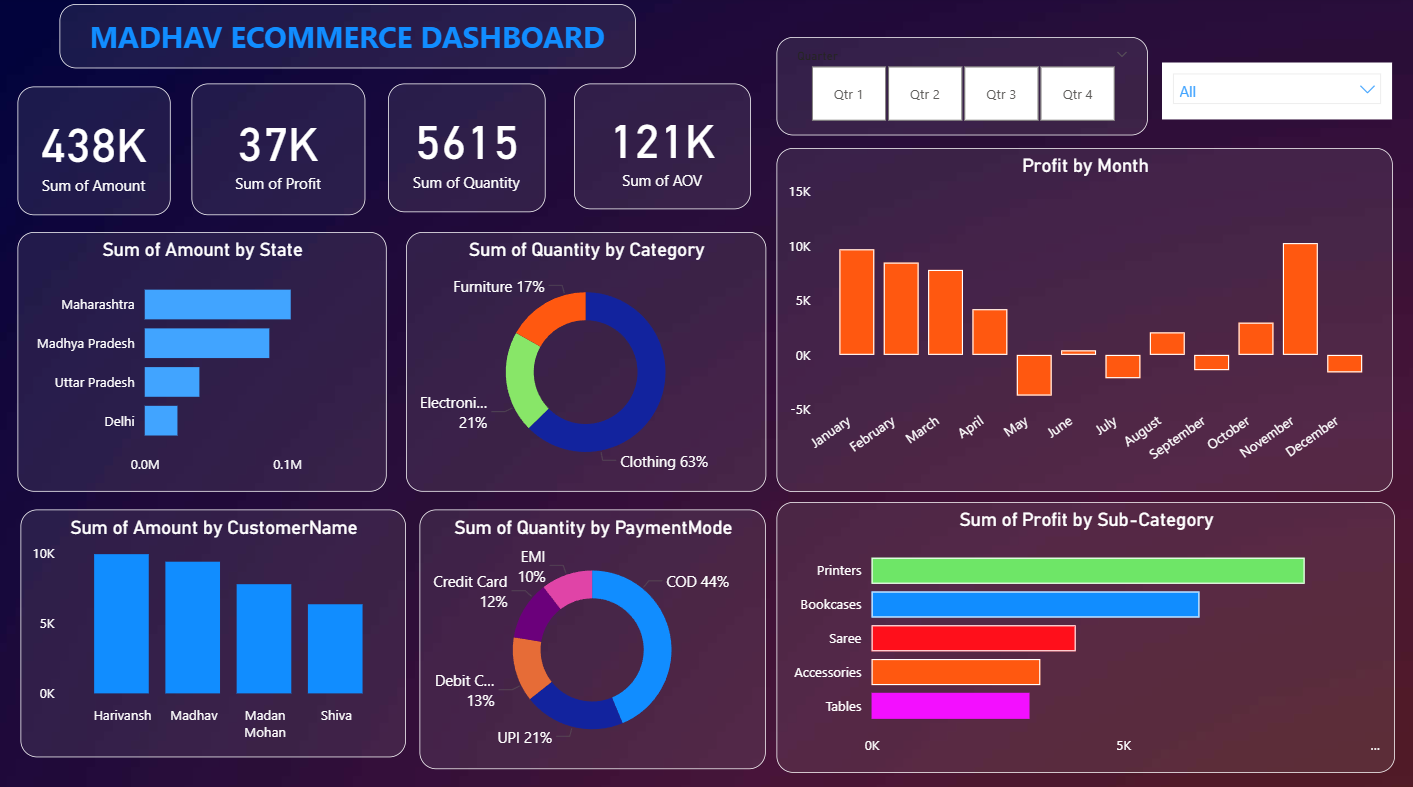

This screenshot's page, from the dashboard's own definition file:
{"tool":"powerbi","page":{"name":"Page 1","canvas":[1280,720],"ordinal":0},"visuals":[{"type":"columnChart","title":"Profit by Month","fields":{"Y":["Details.Profit"],"Category":["Orders.Order Date.Variation.Date Hierarchy.Month"]},"box":[701.1,138,555.6,309.9],"z":0},{"type":"barChart","fields":{"Category":["Details.Sub-Category"],"Y":["Details.Profit"]},"box":[701.1,457.3,557.5,243.8],"z":1000},{"type":"donutChart","fields":{"Category":["Details.Category"],"Y":["Details.Quantity"]},"box":[367.7,213.6,324.4,233.8],"z":2000},{"type":"donutChart","fields":{"Category":["Details.PaymentMode"],"Y":["Details.Quantity"]},"box":[379.8,463,311.8,234.3],"z":3000},{"type":"card","fields":{"Values":["Details.Amount"]},"box":[17.6,82.5,137.9,116.2],"z":4000},{"type":"card","fields":{"Values":["Details.Profit"]},"box":[174.4,79.8,156.8,119],"z":5000},{"type":"card","fields":{"Values":["Details.Quantity"]},"box":[351.4,79.8,141.9,116.2],"z":6000},{"type":"card","fields":{"Values":["Details.AOV"]},"box":[519.1,79.8,159.5,113.5],"z":7000},{"type":"barChart","fields":{"Category":["Orders.State"],"Y":["Details.Amount"]},"box":[17.6,213.6,332.5,233.8],"z":8000},{"type":"columnChart","fields":{"Category":["Orders.CustomerName"],"Y":["Details.Amount"]},"box":[20.3,463.6,347.4,223],"z":9000},{"type":"textbox","box":[55.4,8.1,519.1,58.1],"z":10000},{"type":"slicer","fields":{"Values":["Orders.Order Date.Variation.Date Hierarchy.Quarter"]},"box":[701.1,37.8,334.5,88.8],"z":11000},{"type":"slicer","fields":{"Values":["Orders.State"]},"box":[1049.3,60.6,207.4,51.5],"z":12000}]}

Visuals, with their boxes in screenshot pixels (x1, y1, x2, y2), scaled from the page's 1280x720 canvas onto the 1413x787 screenshot:
"Profit by Month" columnChart: (774, 151, 1387, 490)
barChart - Details.Sub-Category x Details.Profit: (774, 500, 1389, 766)
donutChart - Details.Category x Details.Quantity: (406, 233, 764, 489)
donutChart - Details.PaymentMode x Details.Quantity: (419, 506, 763, 762)
card - Details.Amount: (19, 90, 172, 217)
card - Details.Profit: (193, 87, 366, 217)
card - Details.Quantity: (388, 87, 545, 214)
card - Details.AOV: (573, 87, 749, 211)
barChart - Orders.State x Details.Amount: (19, 233, 386, 489)
columnChart - Orders.CustomerName x Details.Amount: (22, 507, 406, 750)
textbox: (61, 9, 634, 72)
slicer - Orders.Order Date.Variation.Date Hierarchy.Quarter: (774, 41, 1143, 138)
slicer - Orders.State: (1158, 66, 1387, 123)
